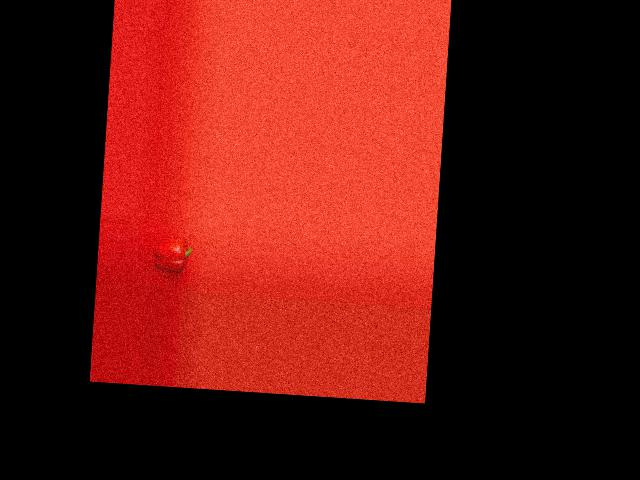bell_pepper: (150, 236, 194, 275)
